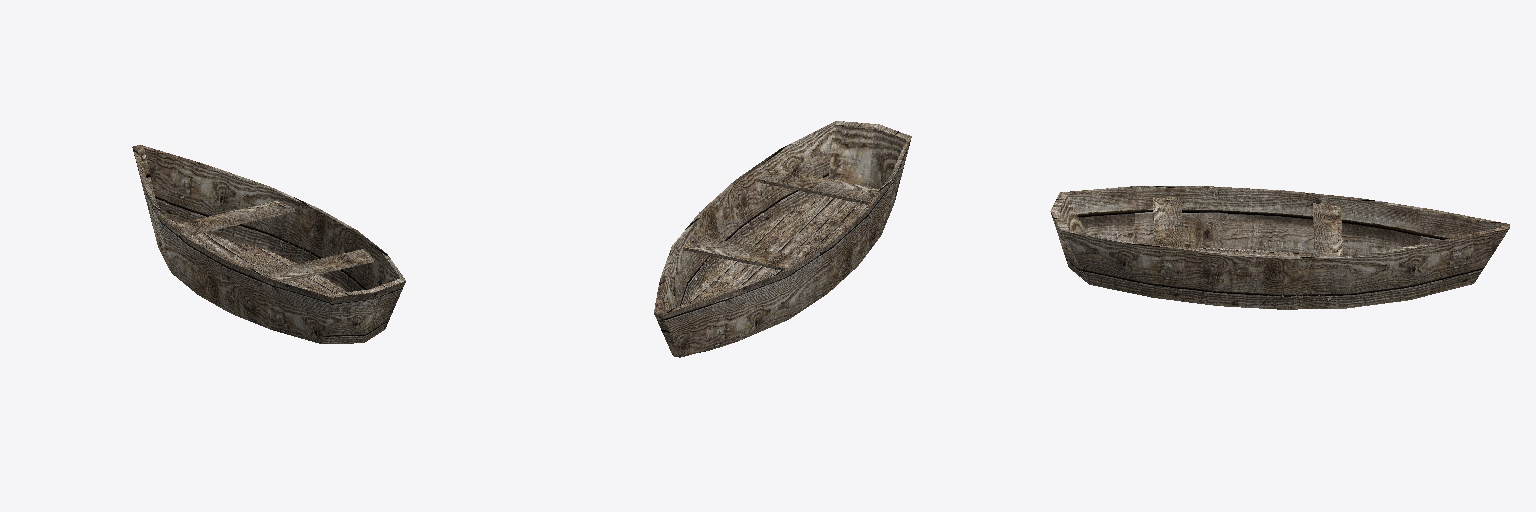
3 renders of one model, left to right at view 1: azimuth 30°, elevation 25°; view 2: azimuth 150°, elevation 25°; view 3: azimuth 270°, elevation 25°, orthographic.
Visible parts, largest first — view 1: Cube, Cube_001; view 2: Cube, Cube_001; view 3: Cube, Cube_001.
Part boxes in pixels (bbox=[...]): Cube: bbox=[132, 145, 405, 343]; Cube_001: bbox=[175, 201, 374, 281]; Cube: bbox=[654, 121, 911, 357]; Cube_001: bbox=[683, 167, 879, 269]; Cube: bbox=[1050, 186, 1509, 309]; Cube_001: bbox=[1153, 197, 1342, 256].
Size of the model in its own units: 195 by 131 by 577.
Materials: 1 (1 with a texture image).